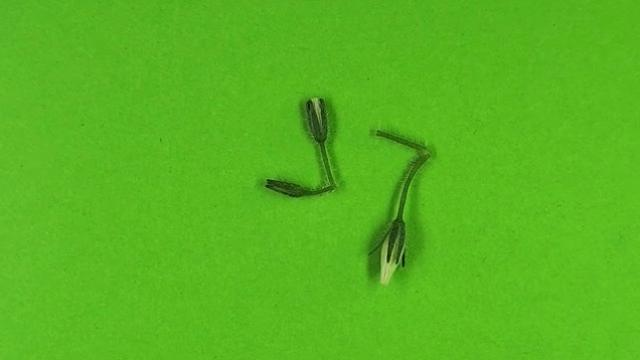Flower Bud: (377, 220, 407, 285), (305, 98, 328, 143), (264, 178, 312, 197)
